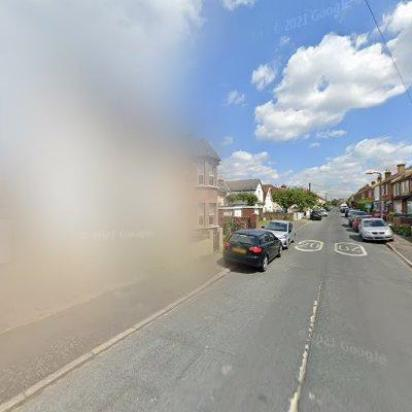stationary-car-onstreet: (221, 227, 284, 274), (262, 218, 296, 248), (358, 217, 396, 243), (352, 216, 375, 232), (308, 210, 324, 220)
